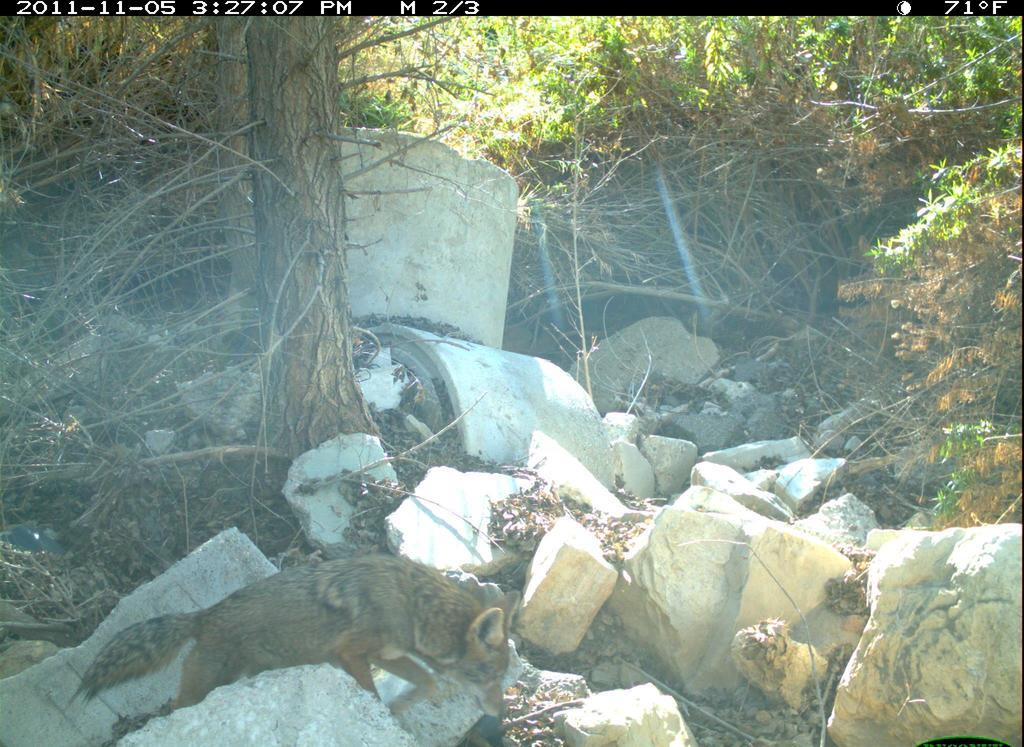coyote: (65, 537, 537, 742)
